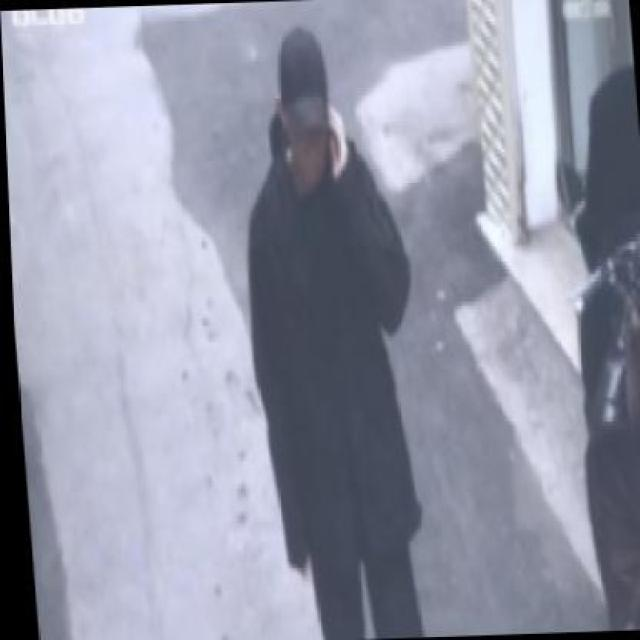hat: (272, 27, 331, 138)
